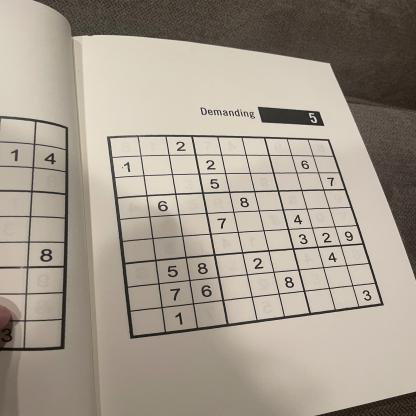sudoku: (103, 132, 388, 346)
